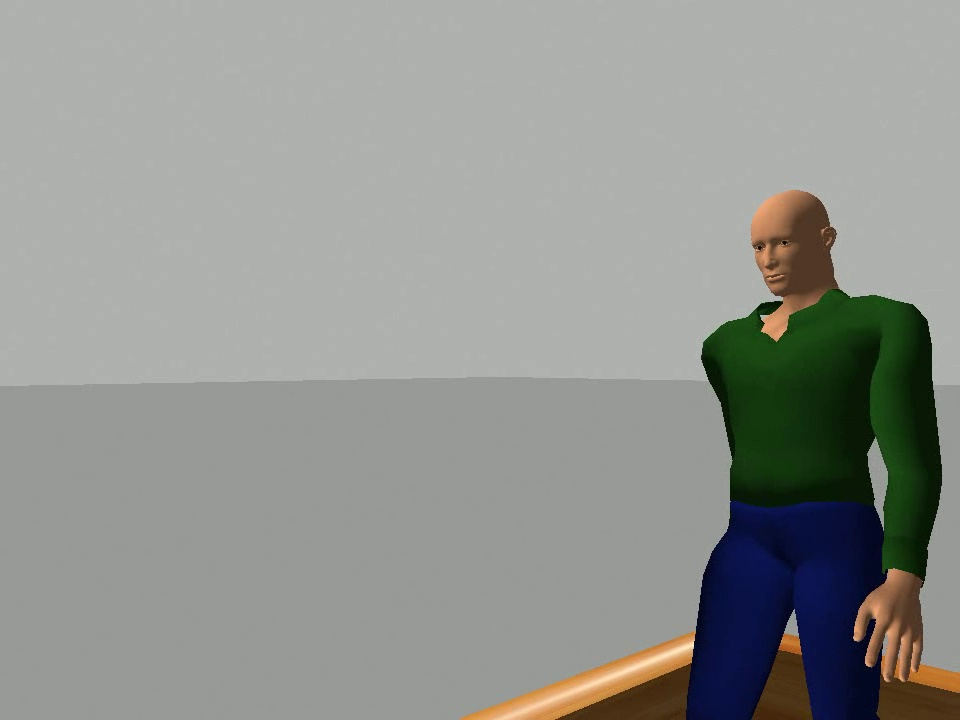person: (681, 187, 946, 720)
